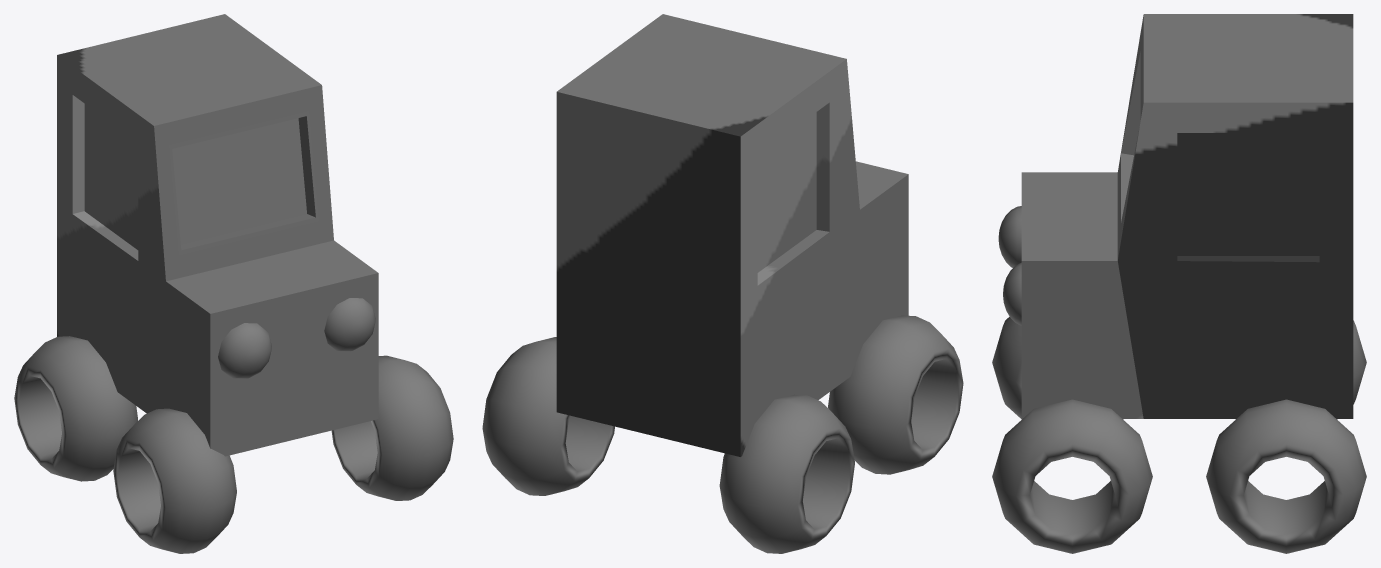
The model's file is Coche01.fbx.
3 renders of one model, left to right at view 1: azimuth 30°, elevation 25°; view 2: azimuth 150°, elevation 25°; view 3: azimuth 270°, elevation 25°, orthographic. The views are drawn at different scales.
Parts seen in each view (by area): view 1: deco_low_pSphere16; view 2: deco_low_pSphere16; view 3: deco_low_pSphere16.
Part boxes in pixels (box(x1,y1,x2,y2)): deco_low_pSphere16: box(14, 14, 453, 553); deco_low_pSphere16: box(482, 14, 963, 553); deco_low_pSphere16: box(992, 14, 1366, 553).
Bounding box in the file's own units: 84.23 × 111 × 87.91.
